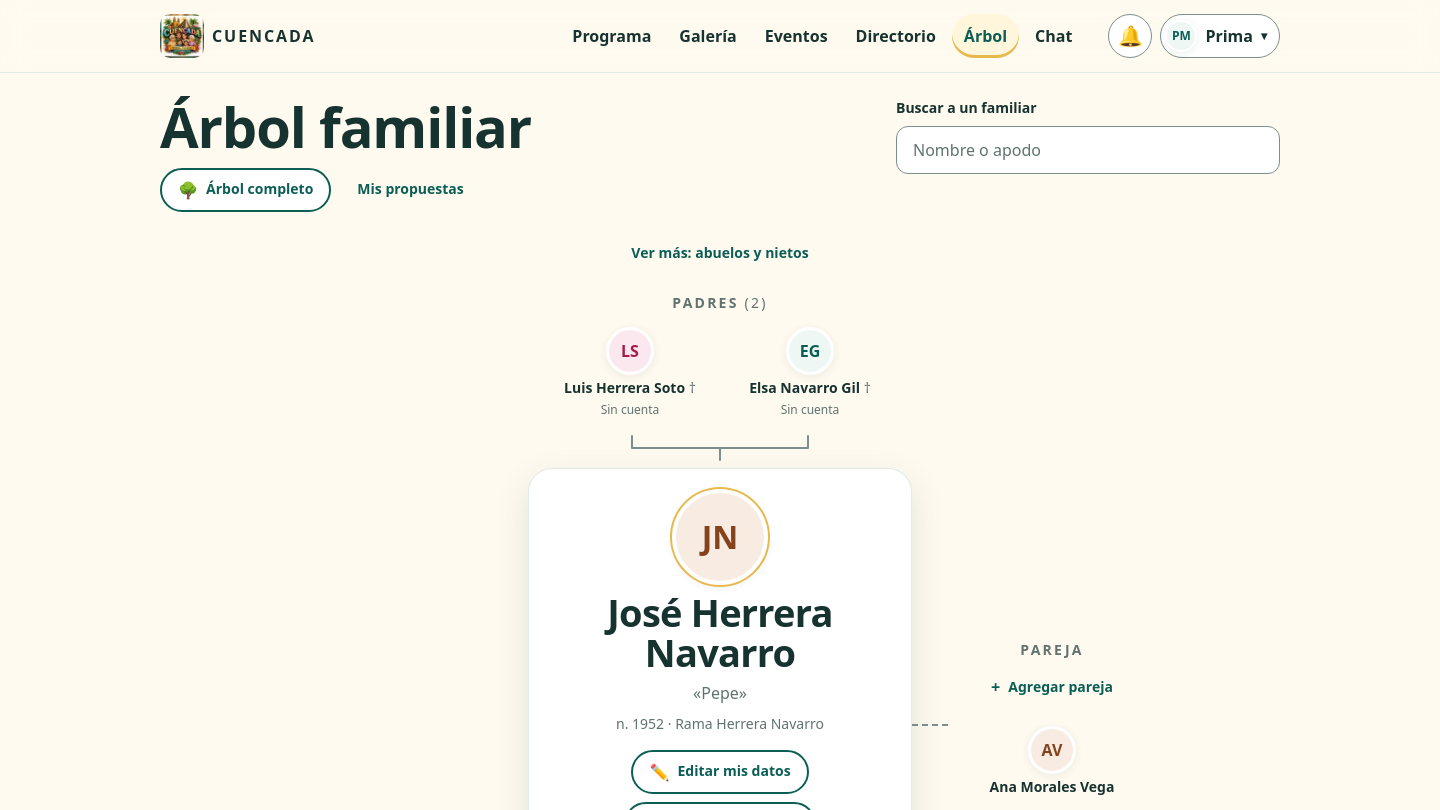
Scenario: adding relatives as a member › validates before sending (death before birth)
Click the button "+ Agregar pareja" at (1052, 688), box [973,666,1131,710]
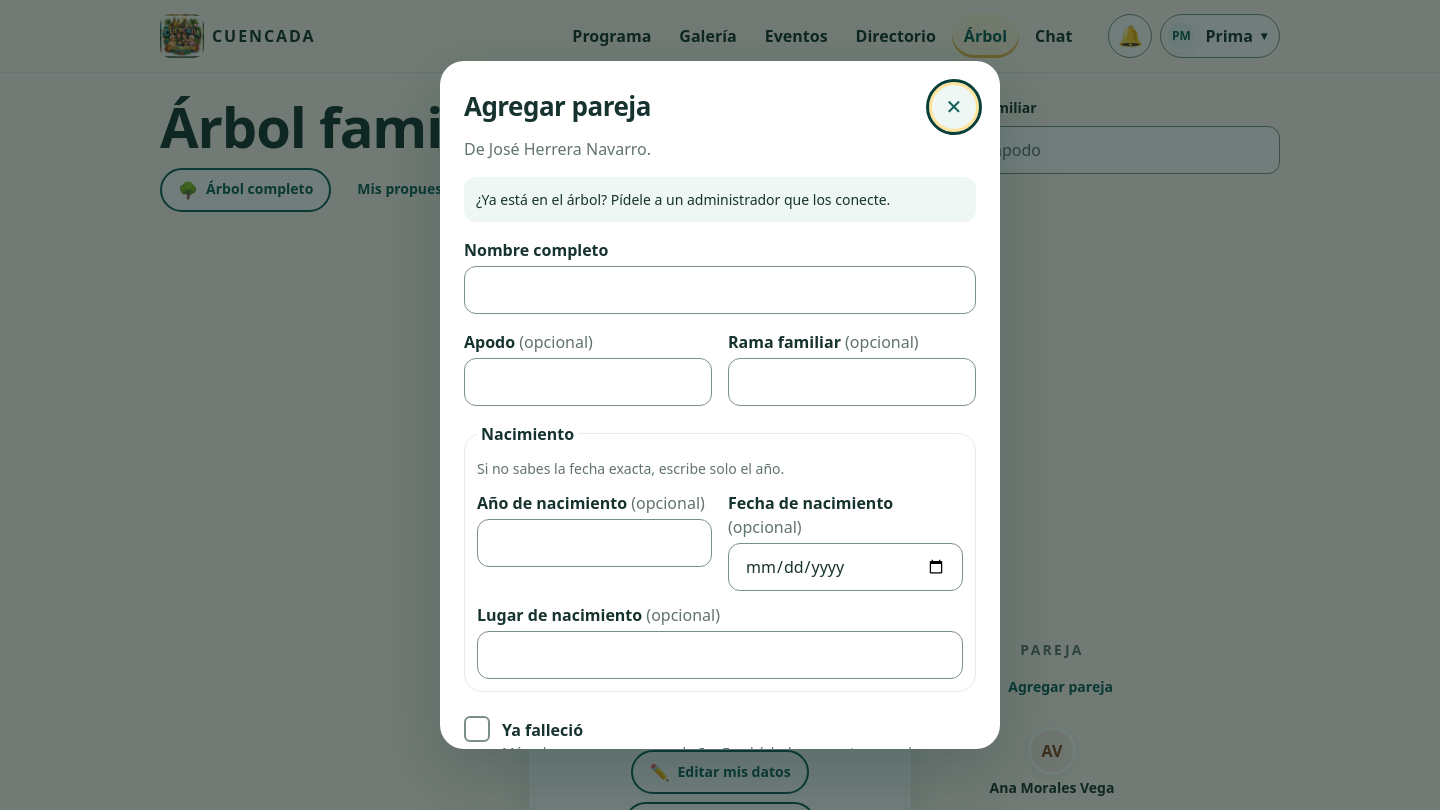
Type "Pareja Nueva" into the field labelled "Nombre completo" at (720, 290), box [464,266,976,314]
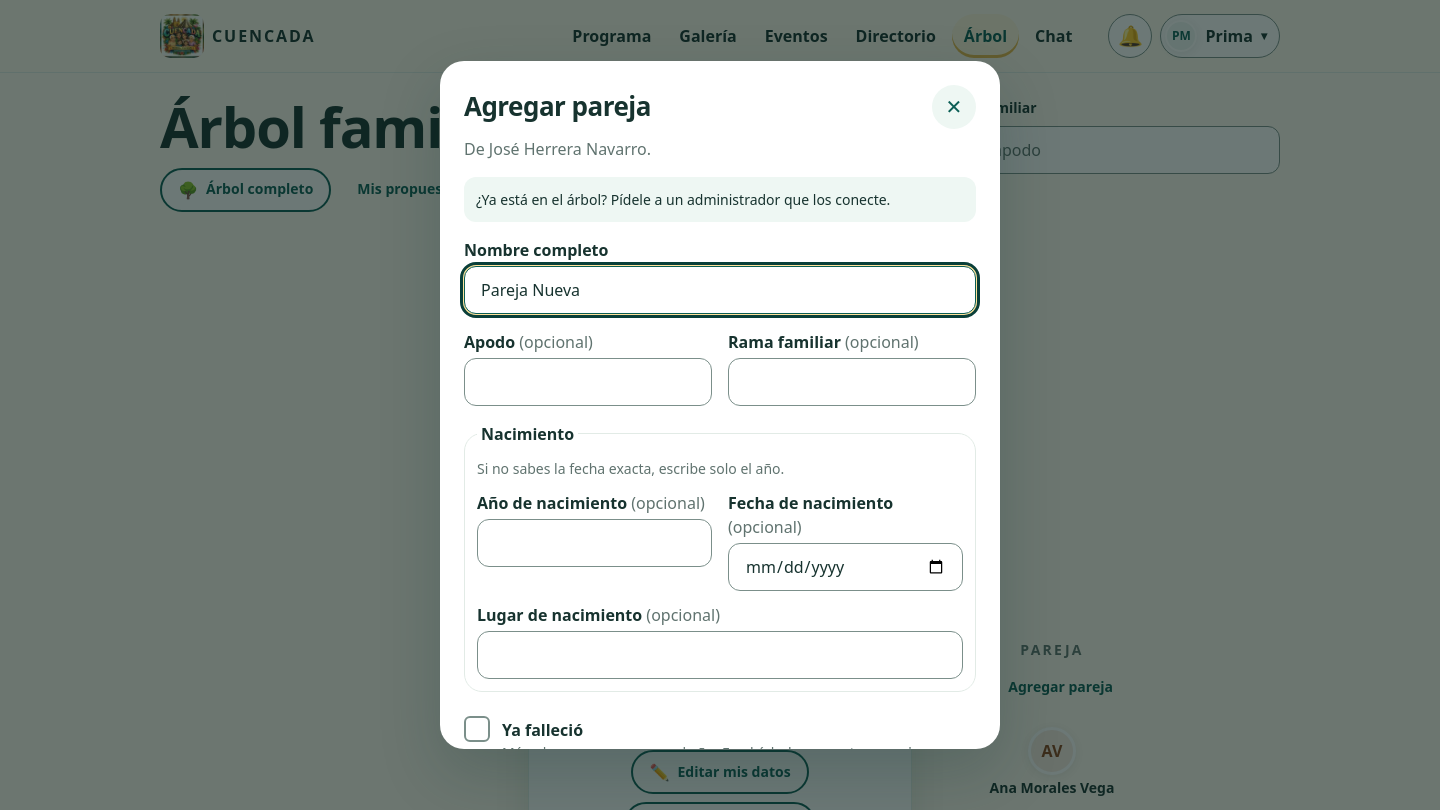
Type "1960" into the field labelled "Año de nacimiento (opcional)" at (594, 543), box [477,519,712,567]
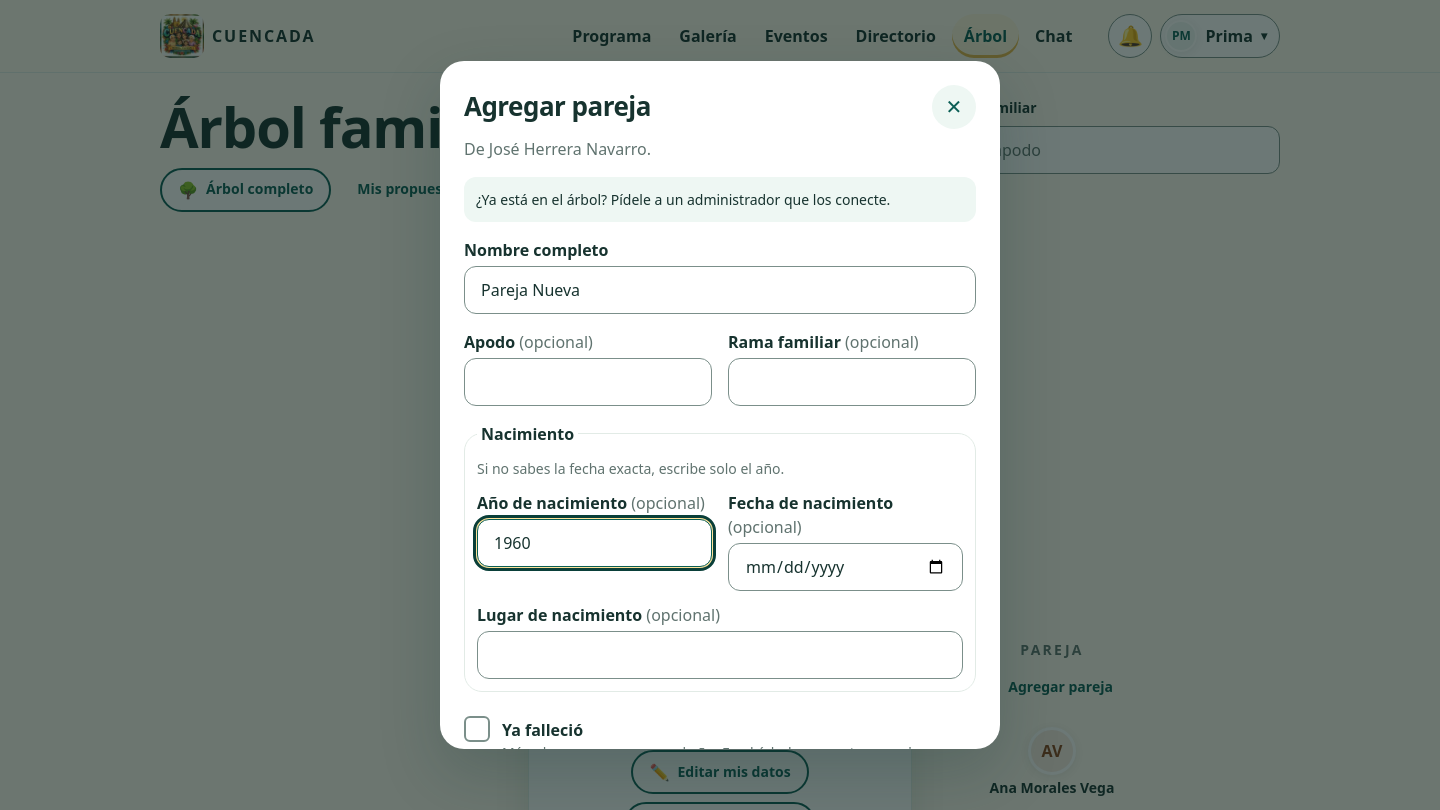
Click the checkbox labelled "Ya falleció" at (477, 729), box [464,716,490,742]
(page scrolled)
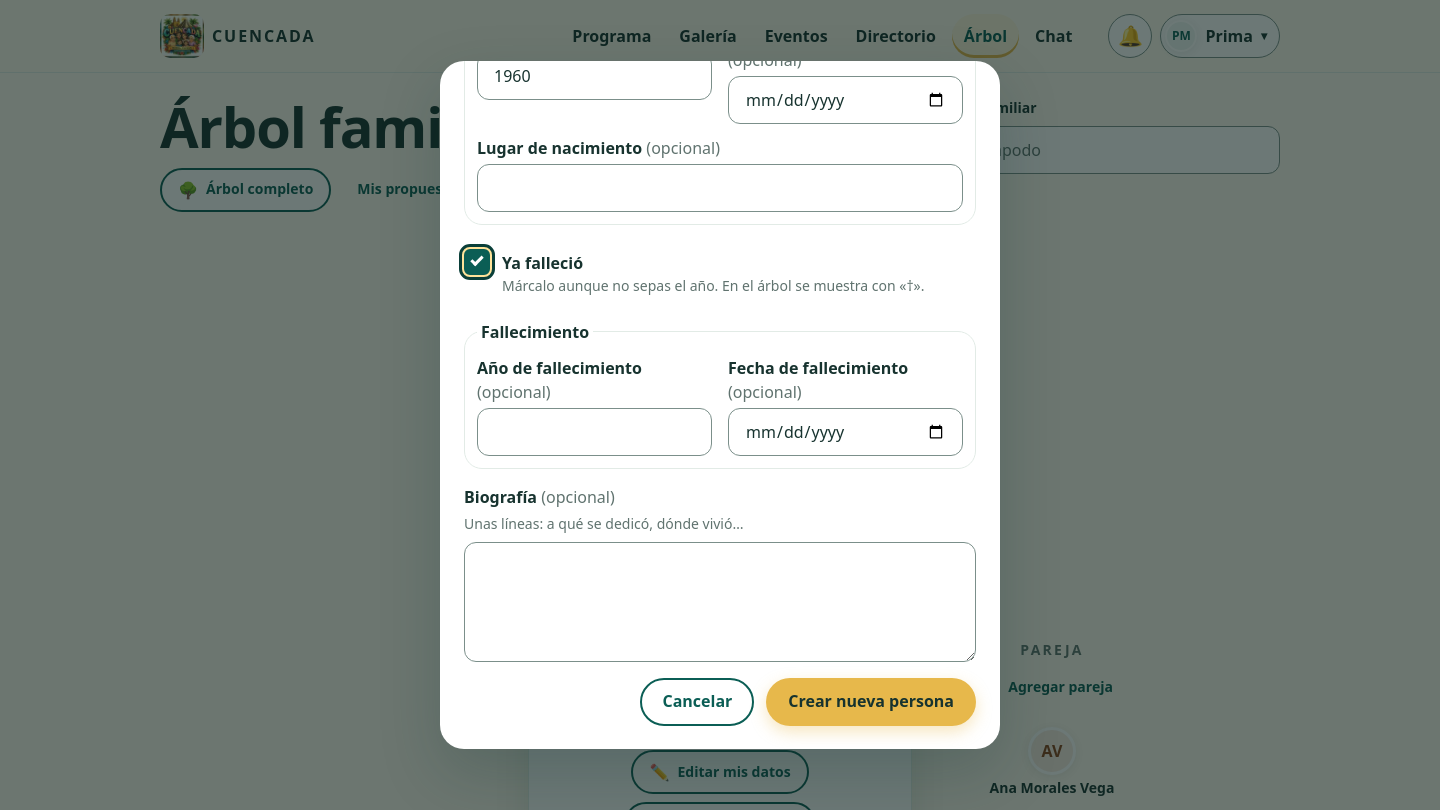
Type "1950" into the field labelled "Año de fallecimiento (opcional)" at (594, 432), box [477,408,712,456]
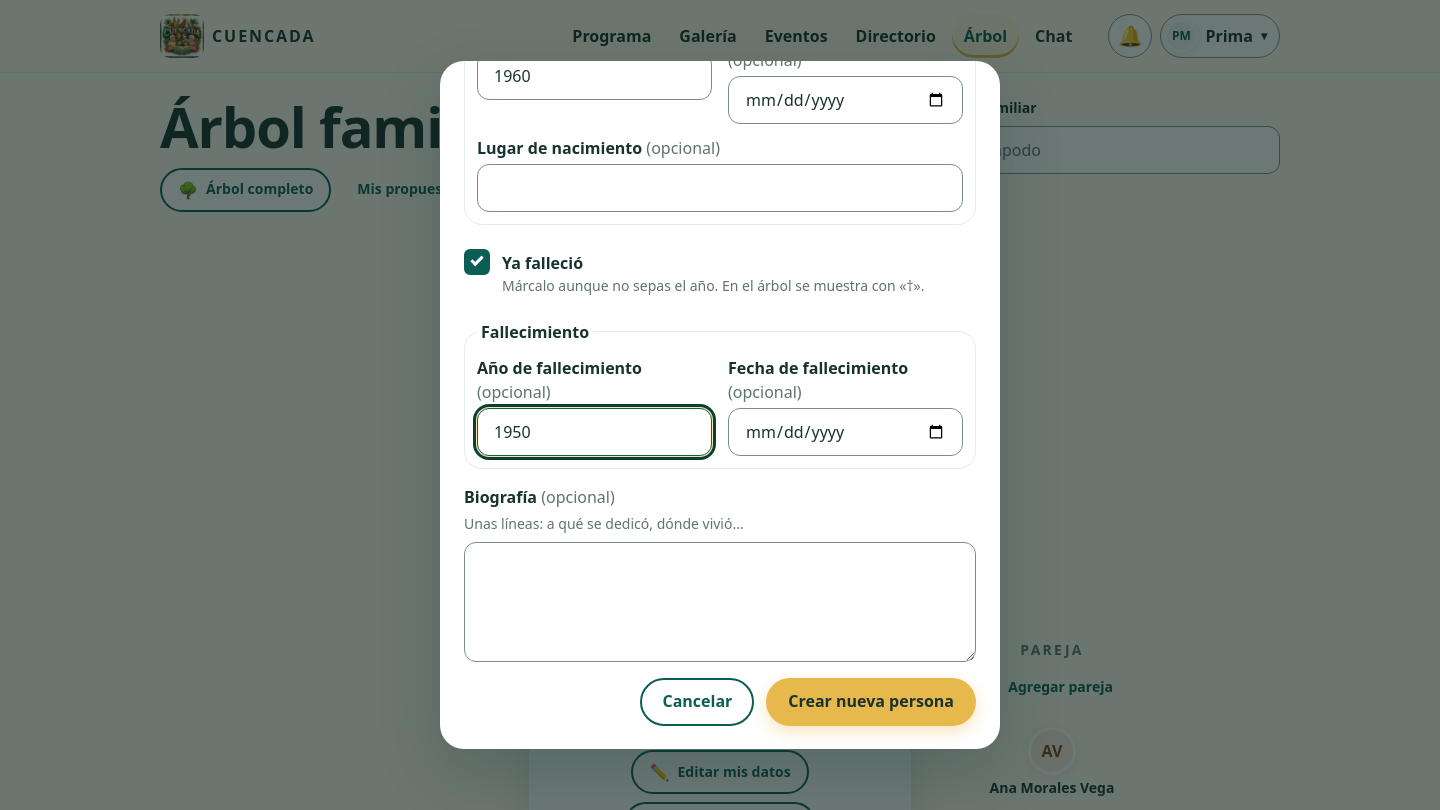
Click the button "Crear nueva persona" at (871, 702), box [766,678,976,726]
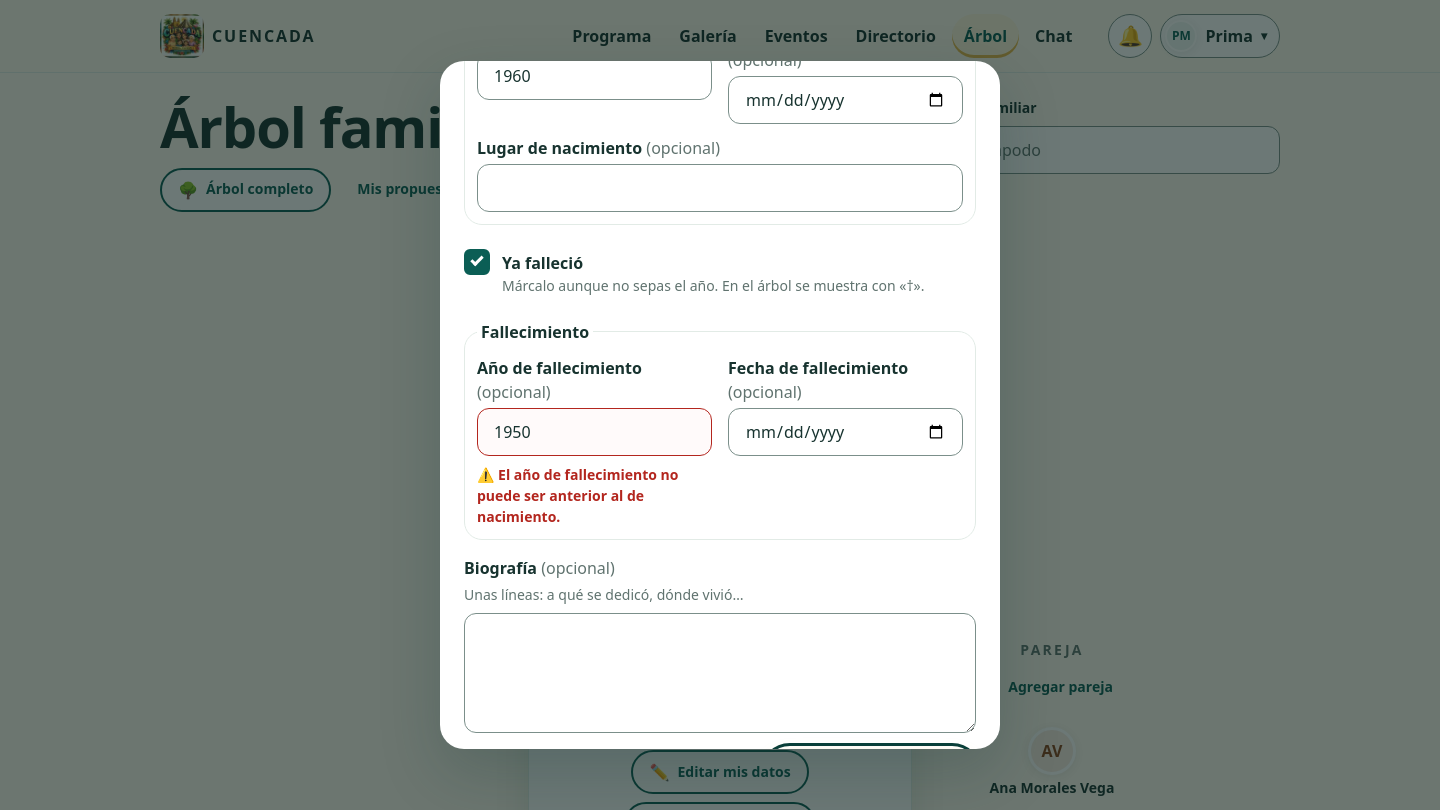
Expected: the text "no puede ser anterior" is shown, [477,465,678,526]
